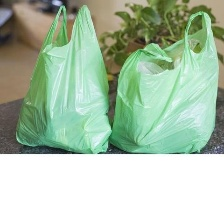plastic_bag: (107, 4, 221, 156), (6, 0, 112, 161)
